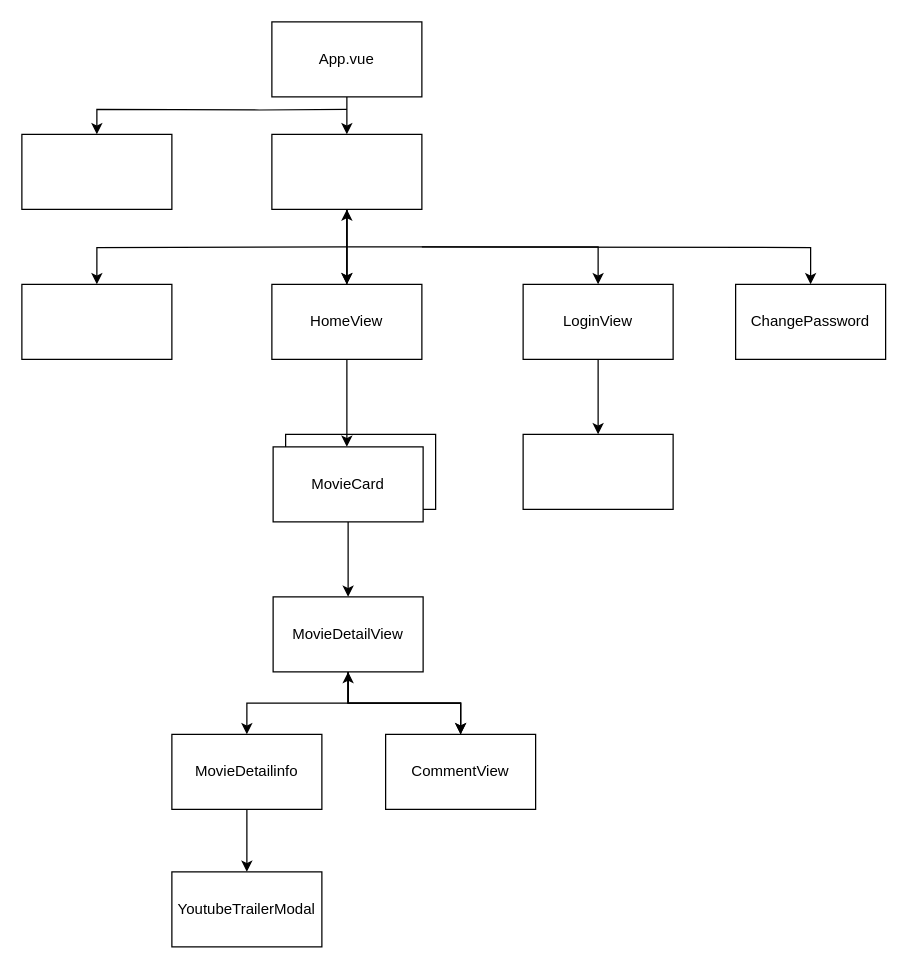
Some shapes in this 908 by 969 pixel diagram are drawn without their labels. The centre of each missing label's shape, as x and y in pixels:
"CreateUserView" belongs at point (597, 471).
"RecommendView" belongs at point (96, 321).
"router-link" belongs at point (96, 171).
"router-view" belongs at point (346, 171).
